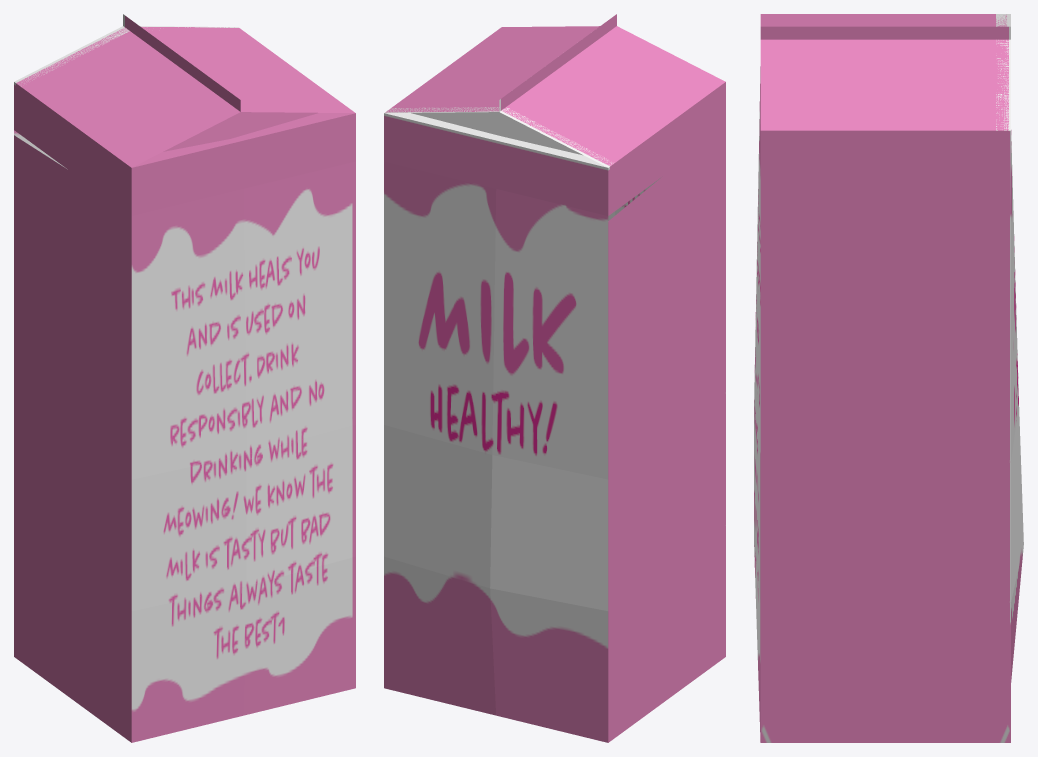
File: MilkQuart.fbx
3 renders of one model, left to right at view 1: azimuth 30°, elevation 25°; view 2: azimuth 150°, elevation 25°; view 3: azimuth 270°, elevation 25°, orthographic. The views are drawn at different scales.
Visible parts, largest first — view 1: Cube; view 2: Cube; view 3: Cube.
Part boxes in pixels (x1,y1,x2,y2): Cube: (14,14,355,742); Cube: (384,14,725,742); Cube: (754,14,1023,742).
Bounding box in the file's own units: 478 × 1257 × 468.
